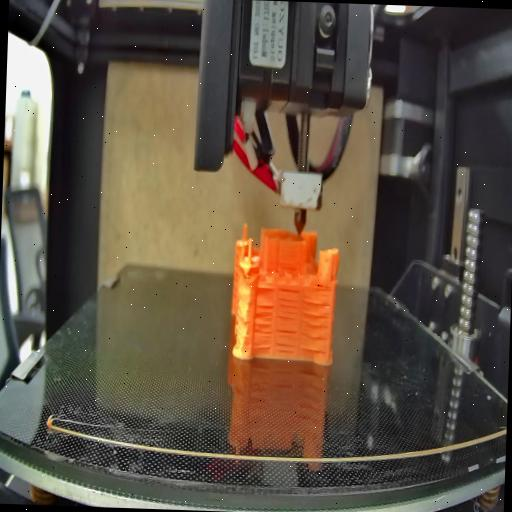cracks: (298, 300, 330, 354), (252, 304, 274, 350), (277, 286, 301, 320), (274, 328, 298, 354), (256, 286, 275, 291)
